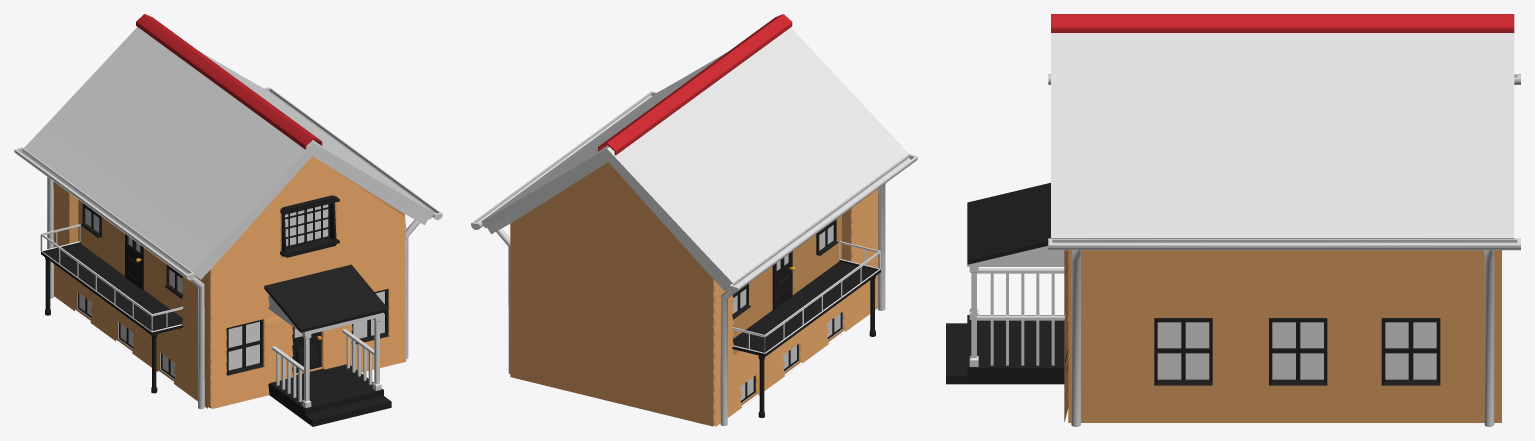
The model's file is Frontan3.glb.
3 views of the same model, side by side, from view 1: azimuth 30°, elevation 25°; view 2: azimuth 150°, elevation 25°; view 3: azimuth 270°, elevation 25° (orthographic). The views are drawn at different scales.
Parts seen in each view (by area): view 1: Frontan, Frontan.001; view 2: Frontan, Frontan.001; view 3: Frontan, Frontan.001.
Part boxes in pixels (x1,y1,x2,y2): Frontan: (14,14,442,426); Frontan.001: (53,156,406,408); Frontan: (471,14,917,425); Frontan.001: (510,162,878,426); Frontan: (946,14,1520,426); Frontan.001: (1064,250,1501,422).
Bounding box in the file's own units: 16.79 × 15.75 × 23.87.
